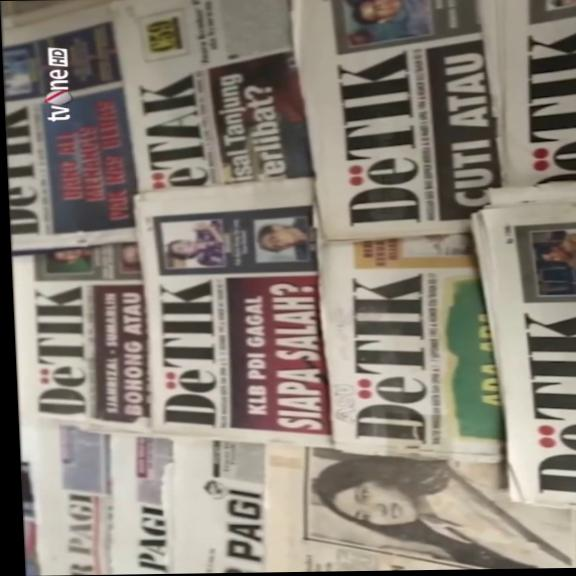Kertas: (133, 187, 336, 448), (289, 0, 506, 244), (258, 433, 576, 572), (109, 0, 308, 198), (467, 191, 576, 509), (3, 6, 144, 247), (12, 250, 153, 434)
